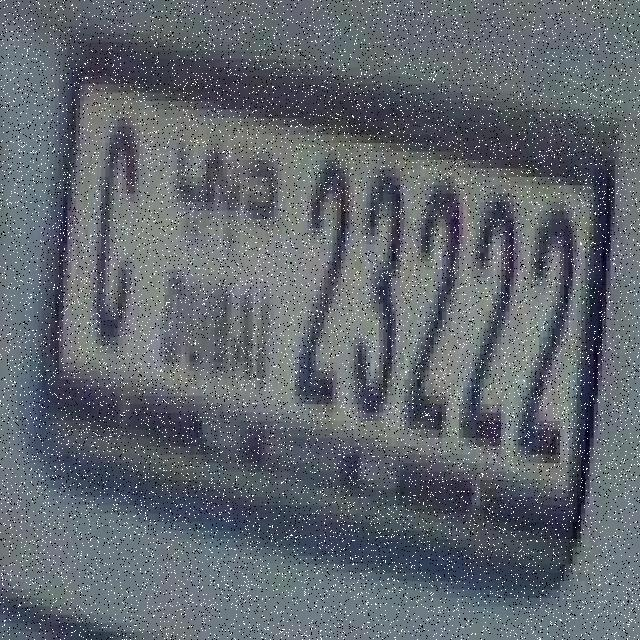licenseplate: (34, 26, 622, 567)
